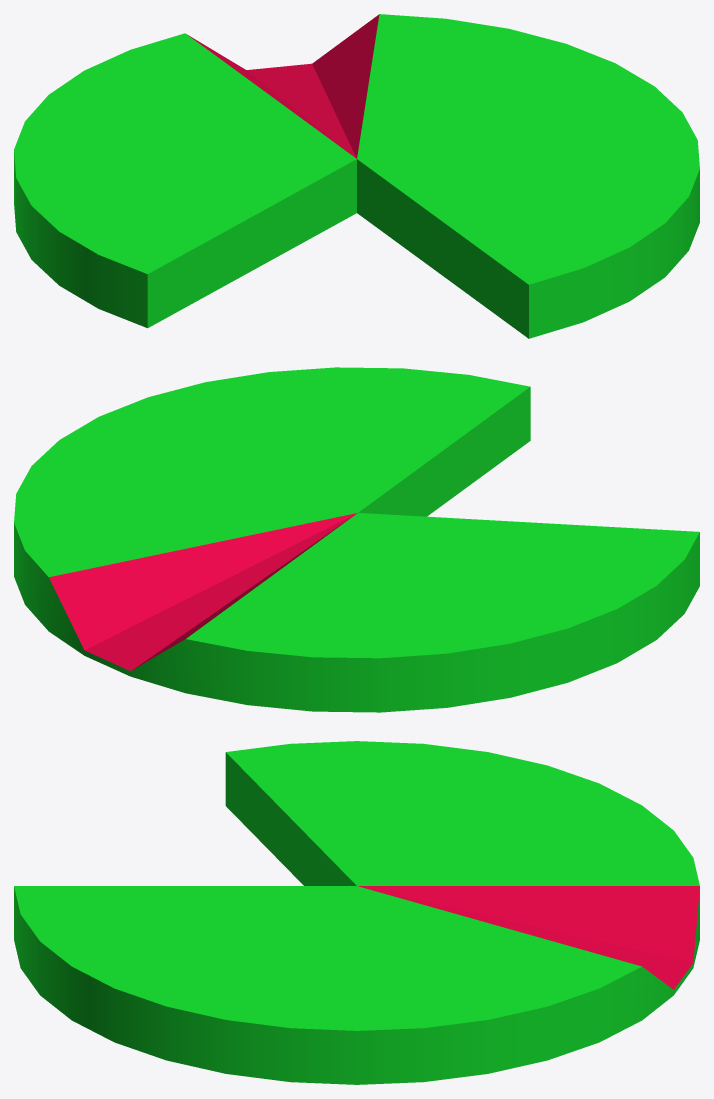
The model's file is Platofrm5.fbx.
3 views of the same model, one above another, from view 1: azimuth 30°, elevation 25°; view 2: azimuth 150°, elevation 25°; view 3: azimuth 270°, elevation 25° (orthographic).
Parts seen in each view (by area): view 1: Platform 5; view 2: Platform 5; view 3: Platform 5.
Part boxes in pixels (x1,y1,x2,y2): Platform 5: (14, 14, 699, 338); Platform 5: (14, 367, 699, 712); Platform 5: (14, 741, 699, 1084).
Size of the model in its own units: 384 by 33.33 by 384.
